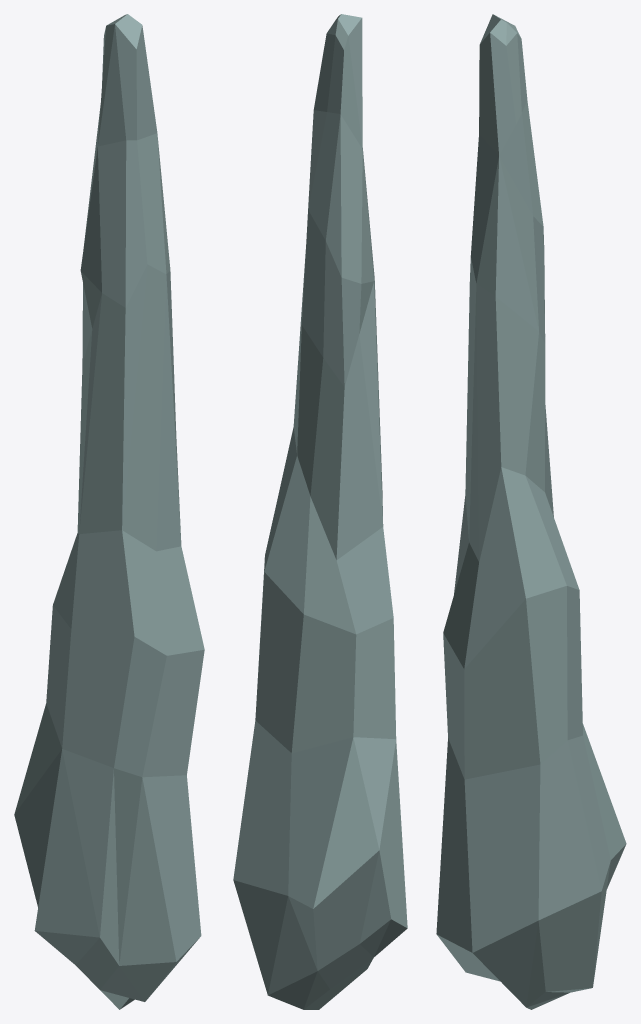
Rendered from salactites_sharp_1.fbx.
3 renders of one model, left to right at view 1: azimuth 30°, elevation 25°; view 2: azimuth 150°, elevation 25°; view 3: azimuth 270°, elevation 25°, orthographic. The views are drawn at different scales.
Parts seen in each view (by area): view 1: salactites_sharp_1; view 2: salactites_sharp_1; view 3: salactites_sharp_1.
Part boxes in pixels (box(x1,y1,x2,y2)): salactites_sharp_1: box(14, 14, 204, 1009); salactites_sharp_1: box(233, 14, 407, 1009); salactites_sharp_1: box(436, 14, 626, 1009).
Size of the model in its own units: 1518 by 9473 by 1654.
